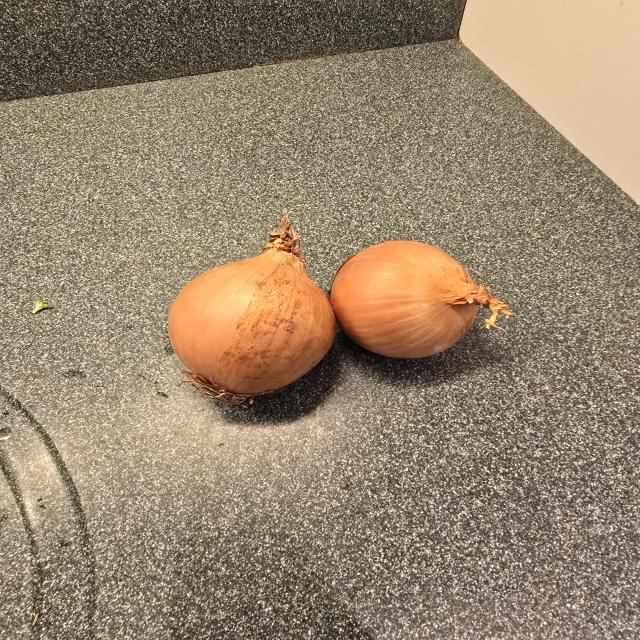Onion: (168, 213, 336, 404), (330, 241, 513, 358)
